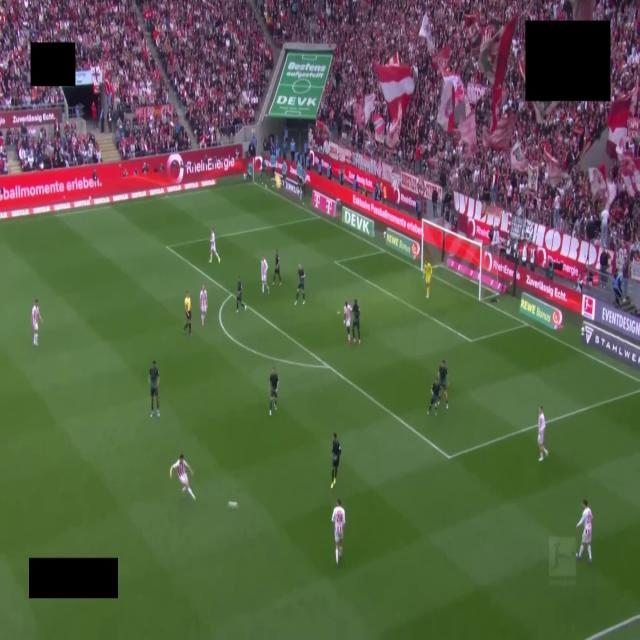ball: (228, 502, 237, 509)
player: (170, 455, 195, 499), (577, 500, 592, 562), (332, 499, 346, 565), (149, 360, 159, 417), (331, 433, 341, 488), (538, 406, 548, 461), (438, 360, 448, 408), (428, 377, 440, 415), (269, 367, 278, 415), (32, 299, 41, 346), (295, 264, 305, 304), (352, 299, 360, 344), (210, 229, 220, 263), (344, 301, 352, 343), (237, 276, 246, 312), (261, 256, 269, 294), (200, 285, 207, 327), (273, 249, 281, 285), (424, 263, 432, 298)
referee: (183, 291, 191, 335)
